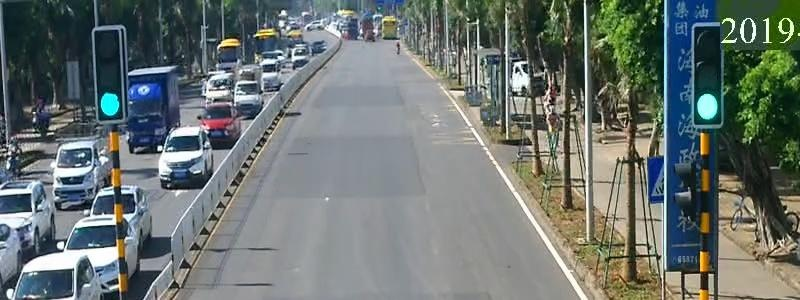green: (688, 87, 740, 132), (90, 90, 135, 122)
